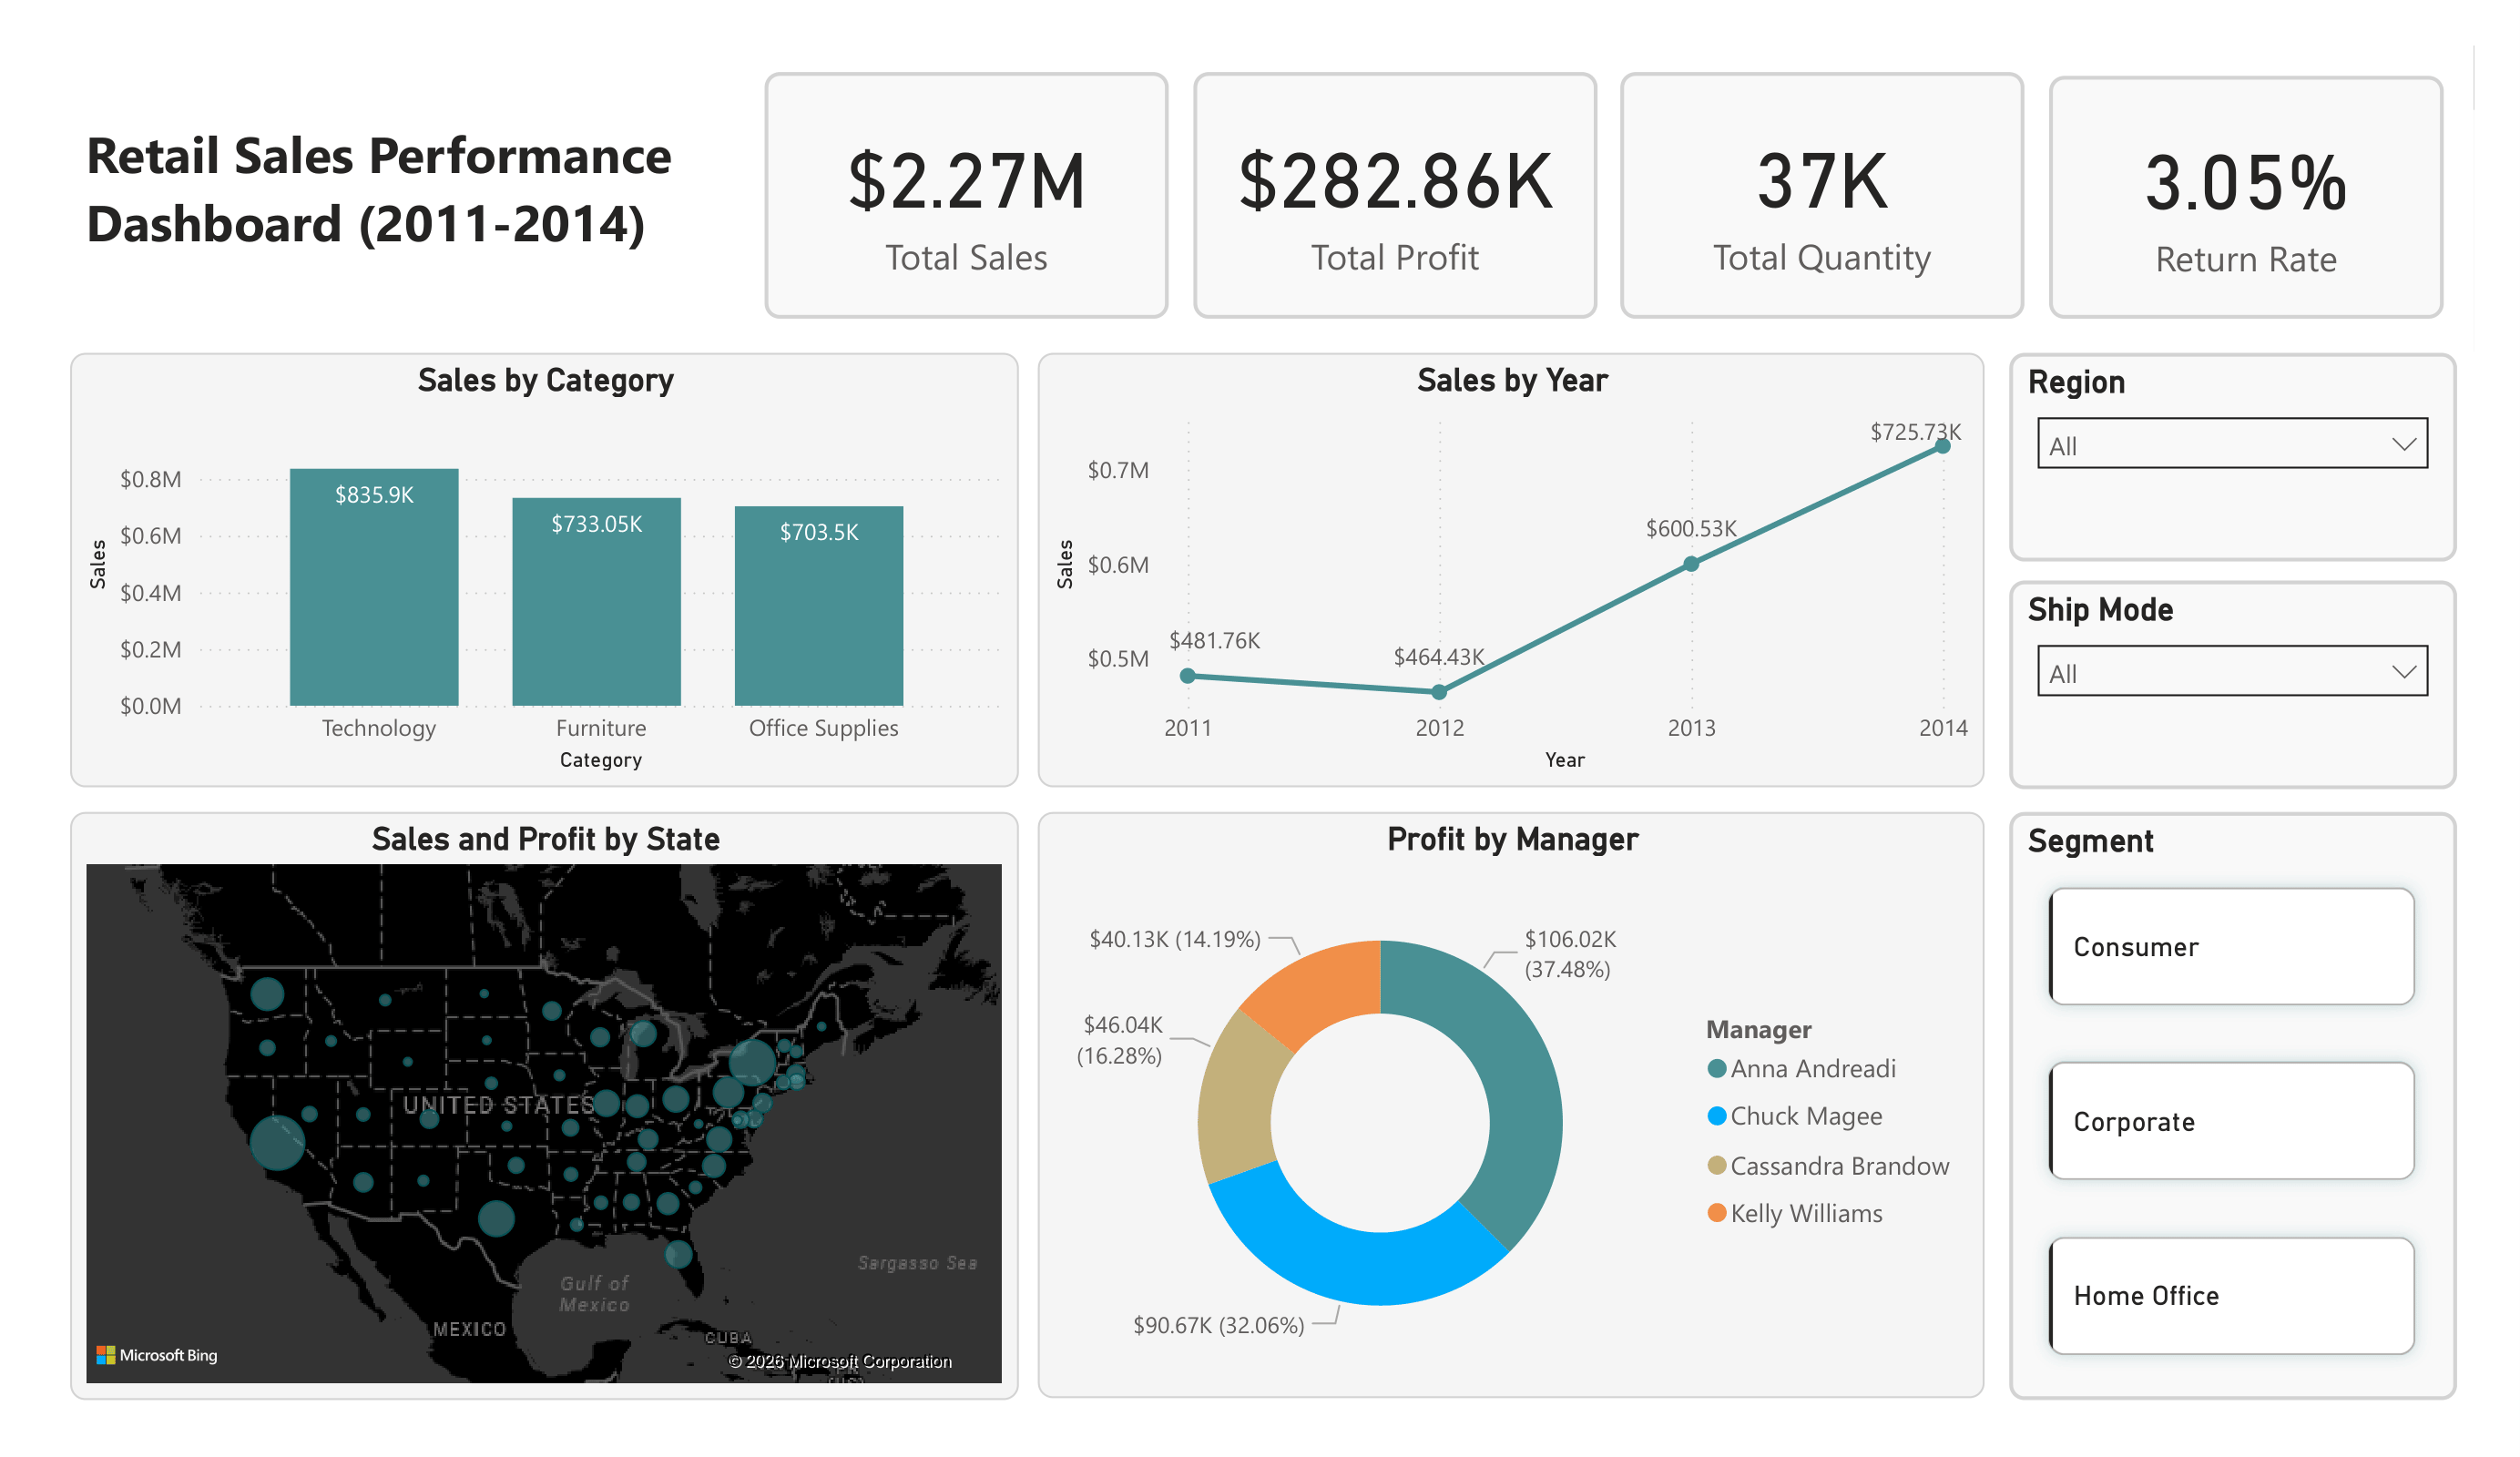

This screenshot's page, from the dashboard's own definition file:
{"tool":"powerbi","page":{"name":"Page 1","canvas":[1280,720],"ordinal":0},"visuals":[{"type":"card","fields":{"Values":["superstore_db orders.Total Sales"]},"box":[378.8,14,213,130],"z":0},{"type":"card","fields":{"Values":["superstore_db orders.Total Profit"]},"box":[604.5,14,213,130],"z":1000},{"type":"card","fields":{"Values":["superstore_db orders.Total Quantity"]},"box":[830.2,14,213,130],"z":2000},{"type":"card","fields":{"Values":["superstore_db orders.Return Rate(%)"]},"box":[1056,16,208,128],"z":3000},{"type":"columnChart","title":"Sales by Category","fields":{"Category":["superstore_db orders.category"],"Y":["superstore_db orders.Total Sales"]},"box":[12.7,161.9,499.8,229.5],"z":4000},{"type":"lineChart","title":"Sales by Year","fields":{"Category":["superstore_db orders.order_date.Variation.Date Hierarchy.Year","superstore_db orders.order_date.Variation.Date Hierarchy.Quarter","superstore_db orders.order_date.Variation.Date Hierarchy.Month","superstore_db orders.order_date.Variation.Date Hierarchy.Day"],"Y":["superstore_db orders.Total Sales"]},"box":[522.7,161.9,499.8,229.5],"z":5000},{"type":"map","title":"Sales and Profit by State","fields":{"Size":["superstore_db orders.Total Sales"],"Category":["superstore_db orders.state"]},"box":[12.7,404.1,499.8,309.8],"z":6000},{"type":"donutChart","title":"Profit by Manager","fields":{"Category":["superstore_db people.manager"],"Y":["superstore_db orders.Total Profit"]},"box":[522.7,404.1,499.8,308.5],"z":7000},{"type":"slicer","title":"Region","fields":{"Values":["superstore_db orders.region"]},"box":[1035.2,161.9,235.9,109.6],"z":8000},{"type":"slicer","title":"Ship Mode","fields":{"Values":["superstore_db orders.ship_mode"]},"box":[1035.2,282.4,235.9,109.6],"z":9000},{"type":"advancedSlicerVisual","title":"Segment","fields":{"Values":["superstore_db orders.segment"]},"box":[1035.2,404.1,235.9,309.8],"z":10000},{"type":"textbox","box":[16,16,352,128],"z":11000}]}

Visuals, with their boxes on the page's 1280x720 design canvas (x1, y1, x2, y2). These are canvas units, not pixel positions in the 2520x1457 screenshot, which may show the page scaled, cropped or inside an application window:
card - superstore_db orders.Total Sales: box(379, 14, 592, 144)
card - superstore_db orders.Total Profit: box(604, 14, 818, 144)
card - superstore_db orders.Total Quantity: box(830, 14, 1043, 144)
card - superstore_db orders.Return Rate(%): box(1056, 16, 1264, 144)
"Sales by Category" columnChart: box(13, 162, 512, 391)
"Sales by Year" lineChart: box(523, 162, 1022, 391)
"Sales and Profit by State" map: box(13, 404, 512, 714)
"Profit by Manager" donutChart: box(523, 404, 1022, 713)
"Region" slicer: box(1035, 162, 1271, 272)
"Ship Mode" slicer: box(1035, 282, 1271, 392)
"Segment" advancedSlicerVisual: box(1035, 404, 1271, 714)
textbox: box(16, 16, 368, 144)
